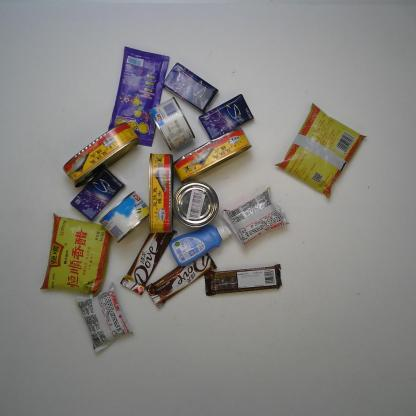Candy: (105, 45, 170, 147)
Canned Food: (62, 123, 139, 187), (172, 126, 252, 180), (98, 190, 152, 242), (149, 95, 196, 151), (147, 153, 177, 237), (172, 181, 219, 227)
Chocolate: (146, 251, 218, 307), (120, 227, 180, 293), (202, 263, 284, 295)
Dessert: (76, 283, 133, 355), (222, 187, 288, 247)
Gum: (162, 61, 219, 110), (70, 168, 123, 220), (200, 94, 254, 141)
Personal Hygiene: (168, 224, 231, 268)
Seasoner: (274, 101, 368, 199), (38, 213, 112, 292)
